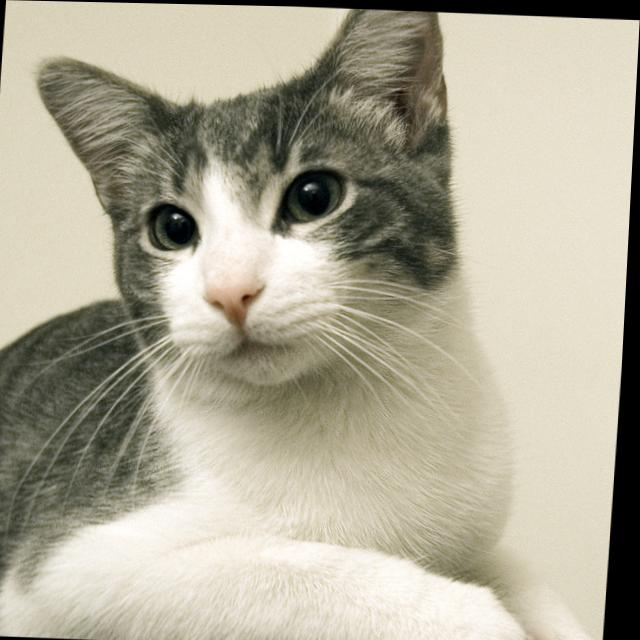animals: (31, 1, 453, 327)
